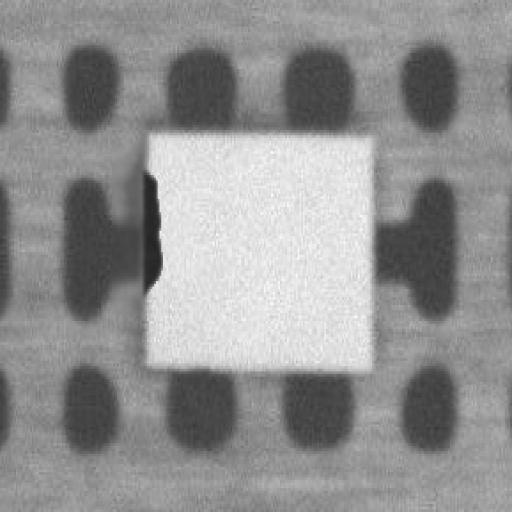DIE_BROKEN: (135, 162, 163, 292)
